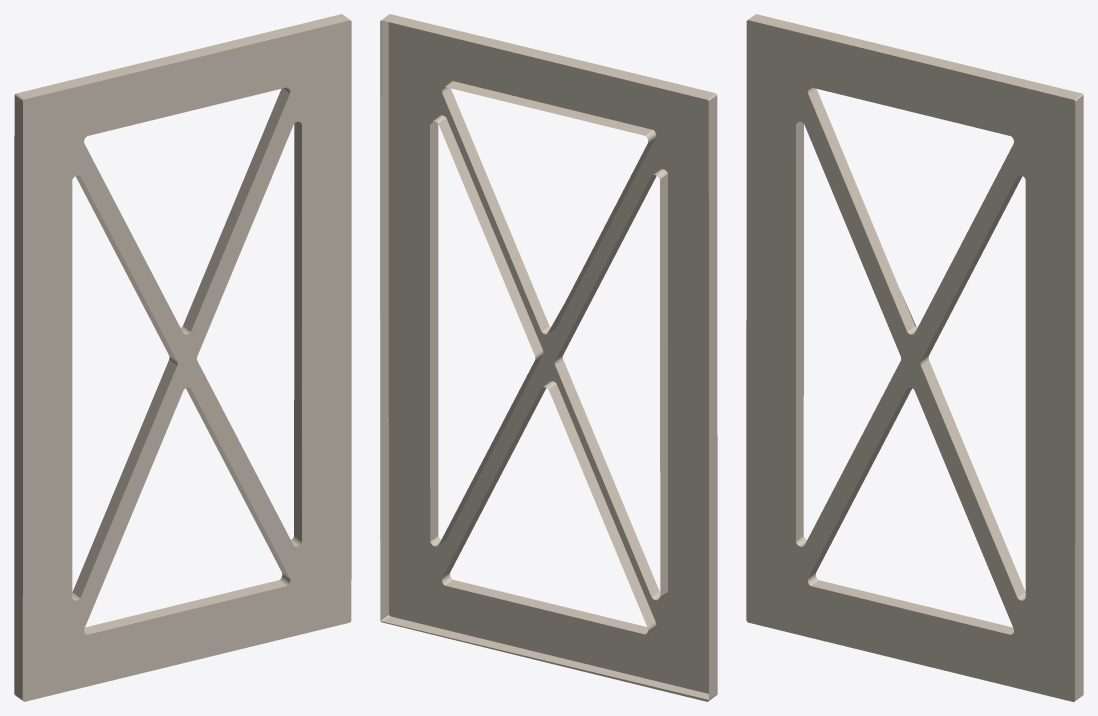
File: NRD CAM 102.glb
3 views of the same model, side by side, from view 1: azimuth 30°, elevation 25°; view 2: azimuth 150°, elevation 25°; view 3: azimuth 330°, elevation 25° (orthographic).
Visible parts, largest first — view 1: NRD CAM 102; view 2: NRD CAM 102; view 3: NRD CAM 102.
Part boxes in pixels (<box>): NRD CAM 102: <box>14,14,351,701</box>; NRD CAM 102: <box>380,14,717,701</box>; NRD CAM 102: <box>746,14,1083,701</box>.
Size of the model in its own units: 0.3999 by 0.6999 by 0.018.
